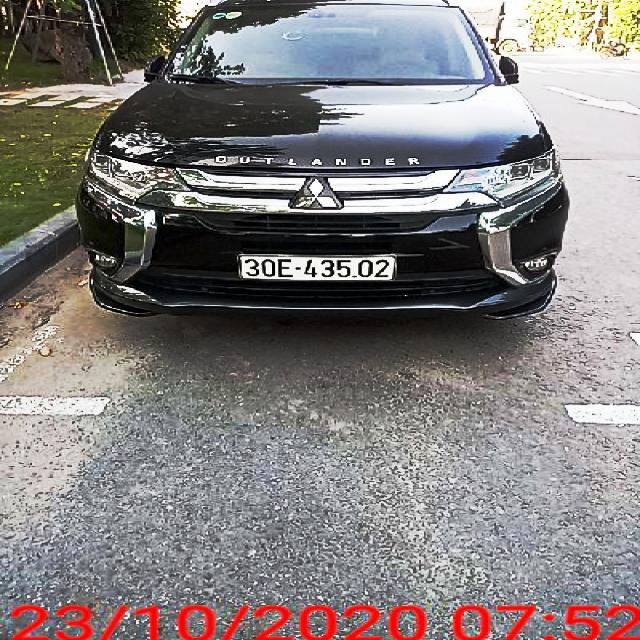license_plate: (244, 255, 399, 282)
